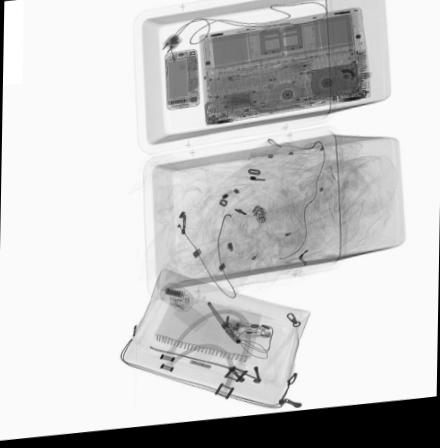Lighter: (235, 335, 272, 344)
